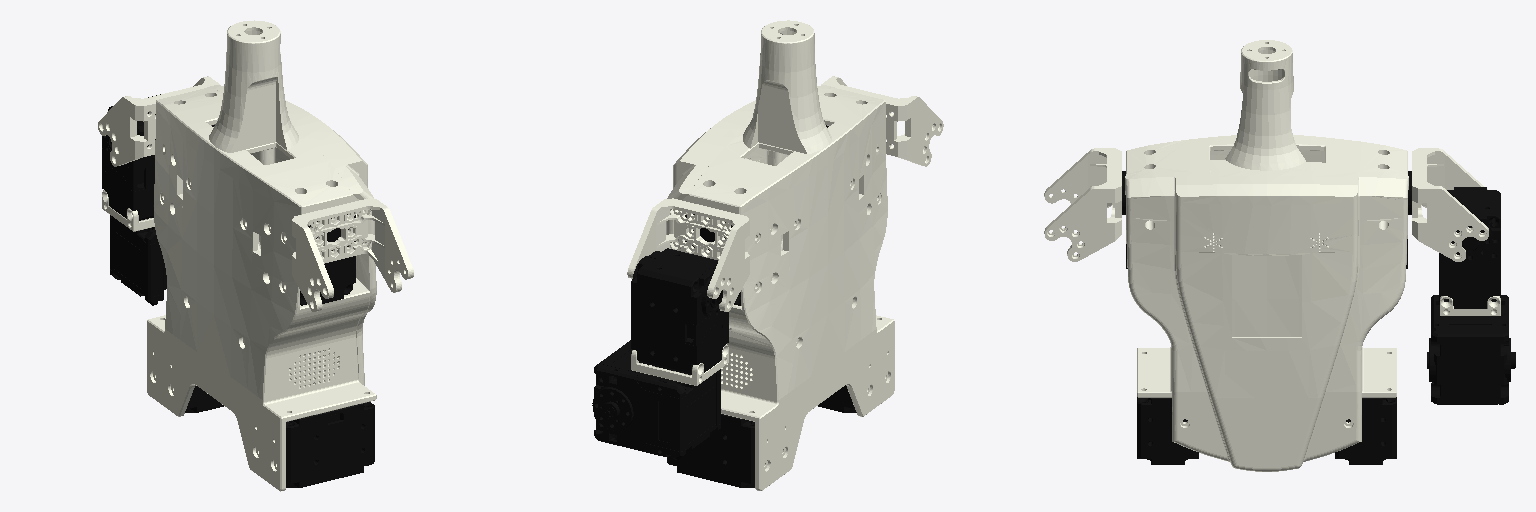
URDF robot description (MH5 Robot):
<?xml version="1.0"?>
<robot name="MH5 Robot">
    <link name="base_link">
        <visual>
            <origin rpy="0.0 0 1.5708" xyz="0 0 0"/>
            <geometry>
                <mesh filename="package://mh5_description/meshes/chest.stl"/>
            </geometry>
            <material name="ivory">
                <color rgba="1 1 0.94 1"/>
            </material>
        </visual>
    </link>

    <link name="shoulder_left">
        <visual>
            <origin rpy="0.0 0 0" xyz="0 0 0"/>
            <geometry>
                <mesh filename="package://mh5_description/meshes/xl430_no_idle.stl"/>
            </geometry>
            <material name="blackish">
                <color rgba="0.1 0.1 0.1 1"/>
            </material>
        </visual>
    </link>

    <joint name="shoulder_left_fixed" type="fixed">
        <parent link="base_link"/>
        <child link="shoulder_left"/>
        <origin xyz="-0.003 0.048 0.09175" rpy="1.5708 0 3.1416"/>
    </joint>

    <link name="shoulder_right">
        <visual>
            <origin rpy="0.0 0 0" xyz="0 0 0"/>
            <geometry>
                <mesh filename="package://mh5_description/meshes/xl430_no_idle.stl"/>
            </geometry>
            <material name="blackish"/>
        </visual>
    </link>

    <joint name="shoulder_right_fixed" type="fixed">
        <parent link="base_link"/>
        <child link="shoulder_right"/>
        <origin xyz="-0.003 -0.048 0.09175" rpy="1.5708 0 0"/>
    </joint>

    <link name="hip_left">
        <visual>
            <origin rpy="0.0 0 0" xyz="0 0 0"/>
            <geometry>
                <mesh filename="package://mh5_description/meshes/xl430_no_idle.stl"/>
            </geometry>
            <material name="blackish"/>
        </visual>
    </link>

    <joint name="hip_left_fixed" type="fixed">
        <parent link="base_link"/>
        <child link="hip_left"/>
        <origin xyz="-0.0105 0.04575 -0.017" rpy="0 3.1416 1.5708"/>
    </joint>

    <link name="hip_right">
        <visual>
            <origin rpy="0.0 0 0" xyz="0 0 0"/>
            <geometry>
                <mesh filename="package://mh5_description/meshes/xl430_no_idle.stl"/>
            </geometry>
            <material name="blackish"/>
        </visual>
    </link>

    <joint name="hip_right_fixed" type="fixed">
        <parent link="base_link"/>
        <child link="hip_right"/>
        <origin xyz="-0.0105 -0.04575 -0.017" rpy="0 3.1416 1.5708"/>
    </joint>

    <link name="shoulder_left_frame">
        <visual>
            <origin rpy="0.0 0 0" xyz="0 -0.016 -0.027"/>
            <geometry>
                <mesh filename="package://mh5_description/meshes/frame01.stl"/>
            </geometry>
            <material name="ivory"/>
        </visual>
    </link>

    <joint name="l_sho_p" type="revolute">
        <axis xyz="0 0 1"/>
        <parent link="shoulder_left"/>
        <child link="shoulder_left_frame"/>
        <origin xyz="0 0 0.019" rpy="0 3.1416 0"/>
        <limit lower="-3.1416" upper="3.1416" effort="1000" velocity="100"/>
    </joint>

    <link name="shoulder_right_frame">
        <visual>
            <origin rpy="0.0 0 -3.1416" xyz="0 0.016 -0.027"/>
            <geometry>
                <mesh filename="package://mh5_description/meshes/frame01.stl"/>
            </geometry>
            <material name="ivory"/>
        </visual>
    </link>

    <joint name="r_sho_p" type="revolute">
        <axis xyz="0 0 -1"/>
        <parent link="shoulder_right"/>
        <child link="shoulder_right_frame"/>
        <origin xyz="0 0 0.019" rpy="0 3.1416 3.1416"/>
        <limit lower="-3.1416" upper="3.1416" effort="1000" velocity="100"/>
    </joint>

    <link name="arm_left">
        <visual>
            <origin rpy="0 0 0" xyz="0 0 0"/>
            <geometry>
                <mesh filename="package://mh5_description/meshes/xl430_with_idle.stl"/>
            </geometry>
            <material name="blackish"/>
        </visual>
    </link>

    <joint name="l_sho_r" type="revolute">
        <axis xyz="0 0 1"/>
        <parent link="shoulder_left_frame"/>
        <child link="arm_left"/>
        <origin xyz="0 -0.016 -0.027" rpy="0 1.5707 0"/>
        <limit lower="-3.1416" upper="3.1416" effort="1000" velocity="100"/>
    </joint>

    <link name="arm_left_fixed">
        <visual>
            <origin rpy="0 0 0" xyz="0 0 0"/>
            <geometry>
                <mesh filename="package://mh5_description/meshes/frame03.stl"/>
            </geometry>
            <material name="ivory"/>
        </visual>
    </link>

    <joint name="arm_left_fixed" type="fixed">
        <parent link="arm_left"/>
        <child link="arm_left_fixed"/>
        <origin xyz="0 -0.03675 0" rpy="0 1.5708 0"/>
    </joint>

    <link name="elbow">
        <visual>
            <origin rpy="0 0 0" xyz="0 0.012 0"/>
            <geometry>
                <mesh filename="package://mh5_description/meshes/2xl430_1_idle.stl"/>
            </geometry>
            <material name="blackish"/>
        </visual>
    </link>

    <joint name="l_elb_y" type="revolute">
        <axis xyz="1 0 0"/>
        <parent link="arm_left_fixed"/>
        <child link="elbow"/>
        <origin xyz="0 -0.0213 0" rpy="0 0 1.5708"/>
        <limit lower="-3.1416" upper="3.1416" effort="1000" velocity="100"/>
    </joint>

</robot>

--- What the picture shows (computed from the rendered views, not written in the file) ---
The picture shows the robot from 3 angles, left to right: view 1: azimuth 30°, elevation 25°; view 2: azimuth 150°, elevation 25°; view 3: azimuth 270°, elevation 25°; orthographic projection.
Model MH5 Robot with 10 links and 9 joints (4 revolute, 5 fixed), rooted at base_link, posed every joint at zero.
Visible links, largest first — view 1: base_link, shoulder_right_frame, hip_right, elbow, shoulder_left_frame, arm_left, shoulder_right, arm_left_fixed, hip_left; view 2: base_link, arm_left, elbow, shoulder_left_frame, hip_left, shoulder_right_frame, arm_left_fixed, hip_right; view 3: base_link, elbow, shoulder_right_frame, shoulder_left_frame, arm_left, hip_left, hip_right, arm_left_fixed.
Link boxes in pixels (bbox=[...]): base_link: bbox=[147, 20, 376, 491]; shoulder_right_frame: bbox=[292, 198, 413, 311]; hip_right: bbox=[286, 402, 374, 487]; elbow: bbox=[110, 215, 166, 305]; shoulder_left_frame: bbox=[98, 76, 219, 166]; arm_left: bbox=[102, 94, 160, 220]; shoulder_right: bbox=[300, 214, 355, 305]; arm_left_fixed: bbox=[102, 190, 154, 231]; hip_left: bbox=[185, 386, 223, 412]; base_link: bbox=[666, 20, 894, 490]; arm_left: bbox=[631, 248, 728, 374]; elbow: bbox=[592, 340, 720, 459]; shoulder_left_frame: bbox=[627, 198, 749, 311]; hip_left: bbox=[667, 414, 754, 487]; shoulder_right_frame: bbox=[821, 76, 943, 166]; arm_left_fixed: bbox=[631, 344, 728, 385]; hip_right: bbox=[818, 385, 856, 412]; base_link: bbox=[1125, 40, 1408, 471]; elbow: bbox=[1427, 295, 1515, 404]; shoulder_right_frame: bbox=[1044, 148, 1121, 261]; shoulder_left_frame: bbox=[1412, 148, 1488, 261]; arm_left: bbox=[1439, 187, 1500, 308]; hip_left: bbox=[1335, 397, 1396, 464]; hip_right: bbox=[1137, 397, 1198, 464]; arm_left_fixed: bbox=[1440, 296, 1500, 315].
Size in the robot's own frame: 0.0598 by 0.2177 by 0.2019 metres.
10 mesh visuals loaded from 6 distinct referenced files (6 binary STL).
